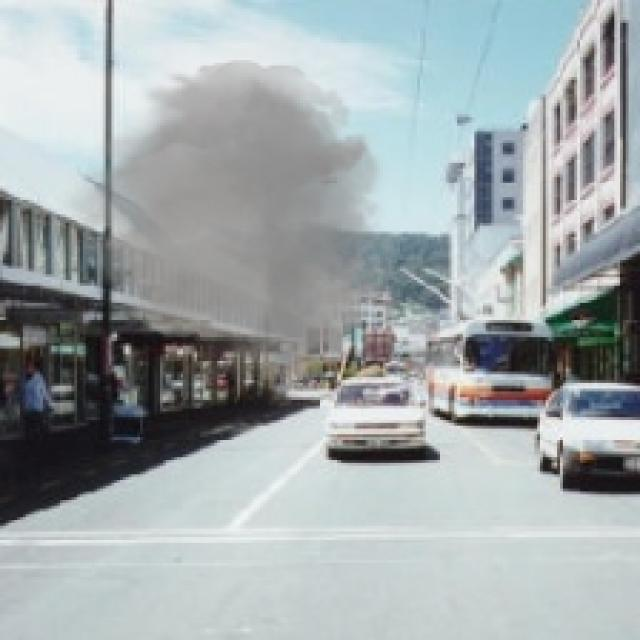Smoke: (54, 51, 414, 408)
